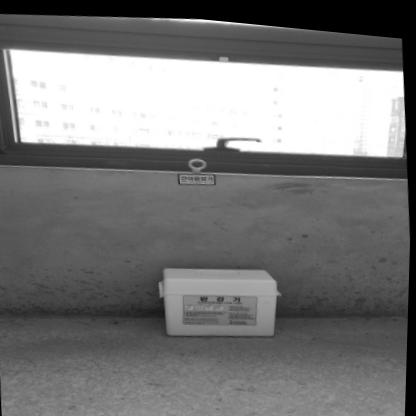DDL: (160, 255, 281, 341)
